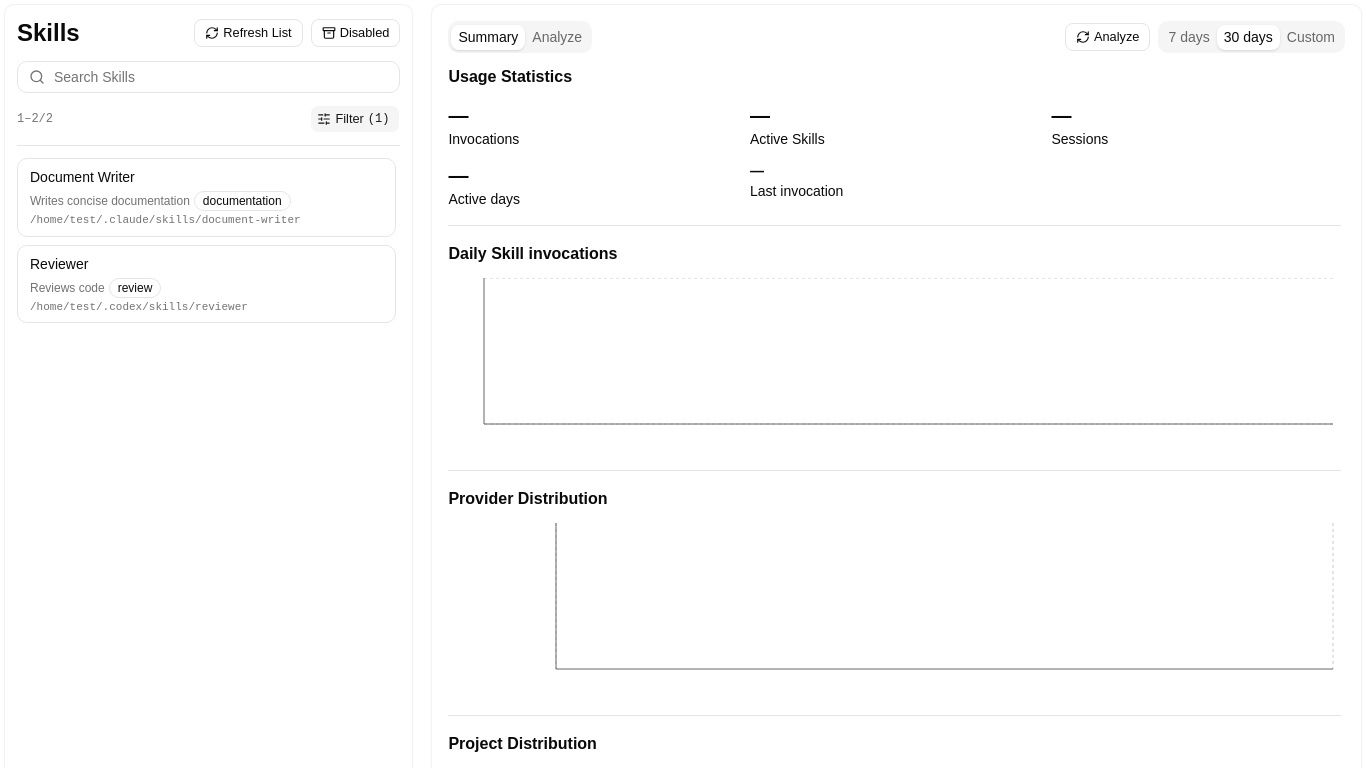
SkillsPage › drills into a day on the activity heatmap
Note: The activity heatmap lives under the overview panel's "Analyze" tab.
Click the tab "Analyze".
click(557, 37)  # box left=525, top=24, right=589, bottom=50
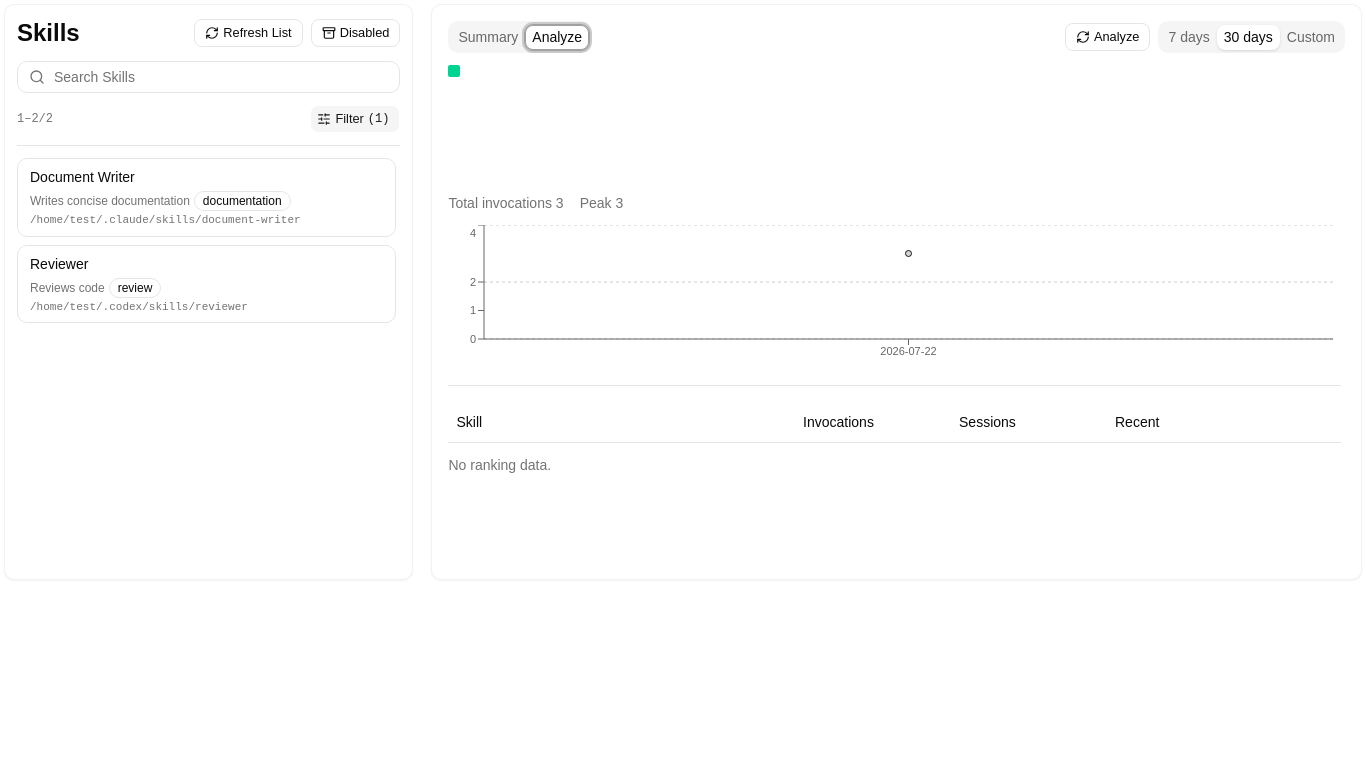
Click the button named "2026-07-22".
click(454, 71)  # box left=448, top=65, right=460, bottom=77
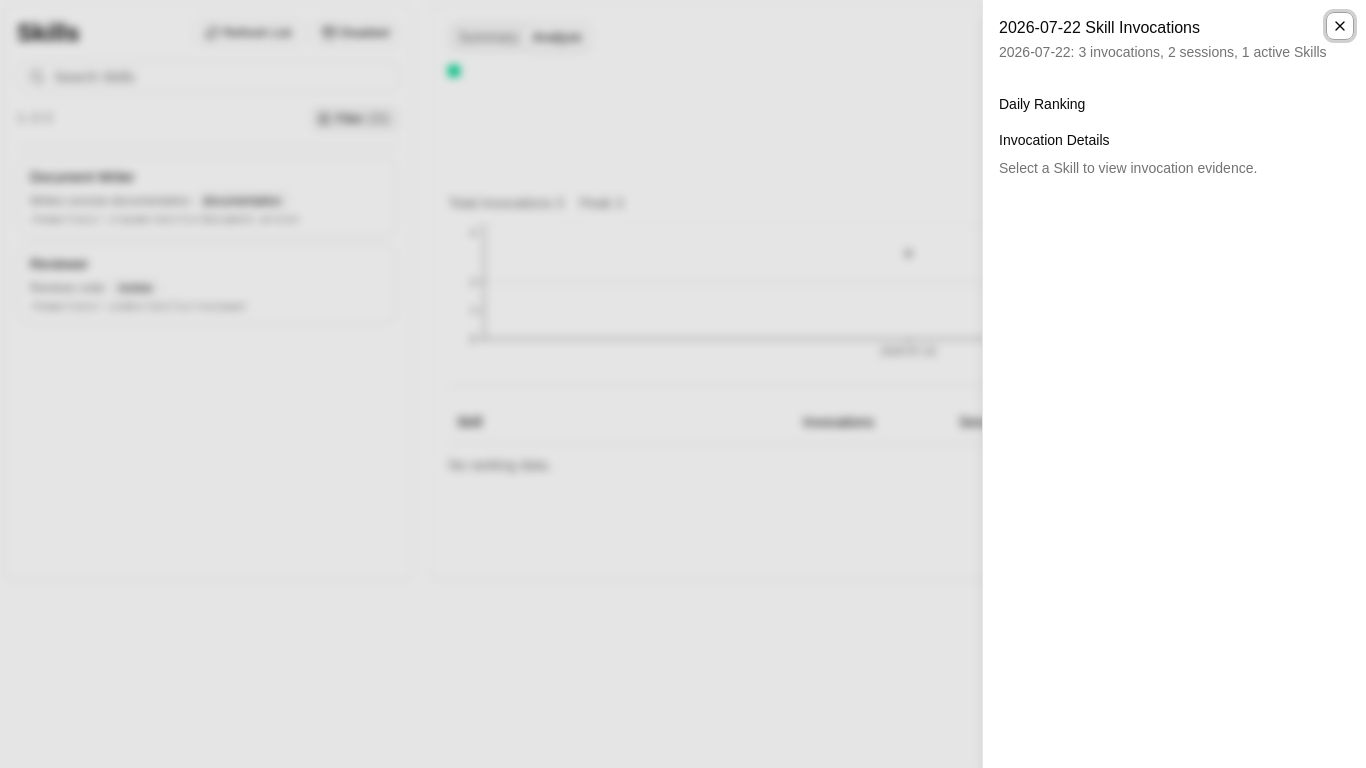
Now the dialog shows "2026-07-22 Skill Invocations", box left=982, top=0, right=1365, bottom=767
